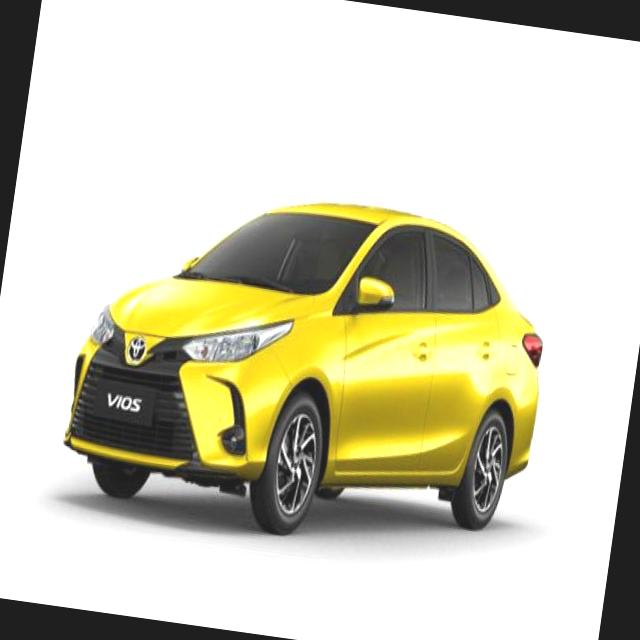ToyotaVios: (53, 165, 563, 570)
